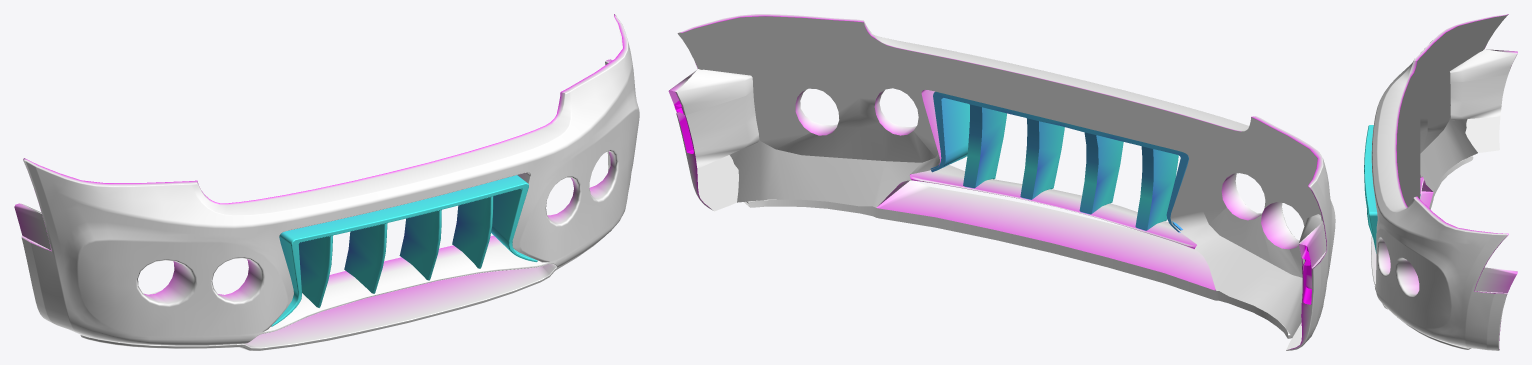
The model's file is Car_Mini_CountrymanJCW_2017_BumperF_SetC_AltA.fbx.
The picture shows the model from 3 angles, left to right: view 1: azimuth 30°, elevation 25°; view 2: azimuth 150°, elevation 25°; view 3: azimuth 270°, elevation 25°; orthographic projection. The views are drawn at different scales.
Parts seen in each view (by area): view 1: BumperF 6; view 2: BumperF 6; view 3: BumperF 6.
Part boxes in pixels (left/top/right/bottom): BumperF 6: left=14, top=14, right=639, bottom=350; BumperF 6: left=668, top=14, right=1335, bottom=350; BumperF 6: left=1364, top=14, right=1517, bottom=350.
Bounding box in the file's own units: 1.76 × 0.4959 × 0.514.
